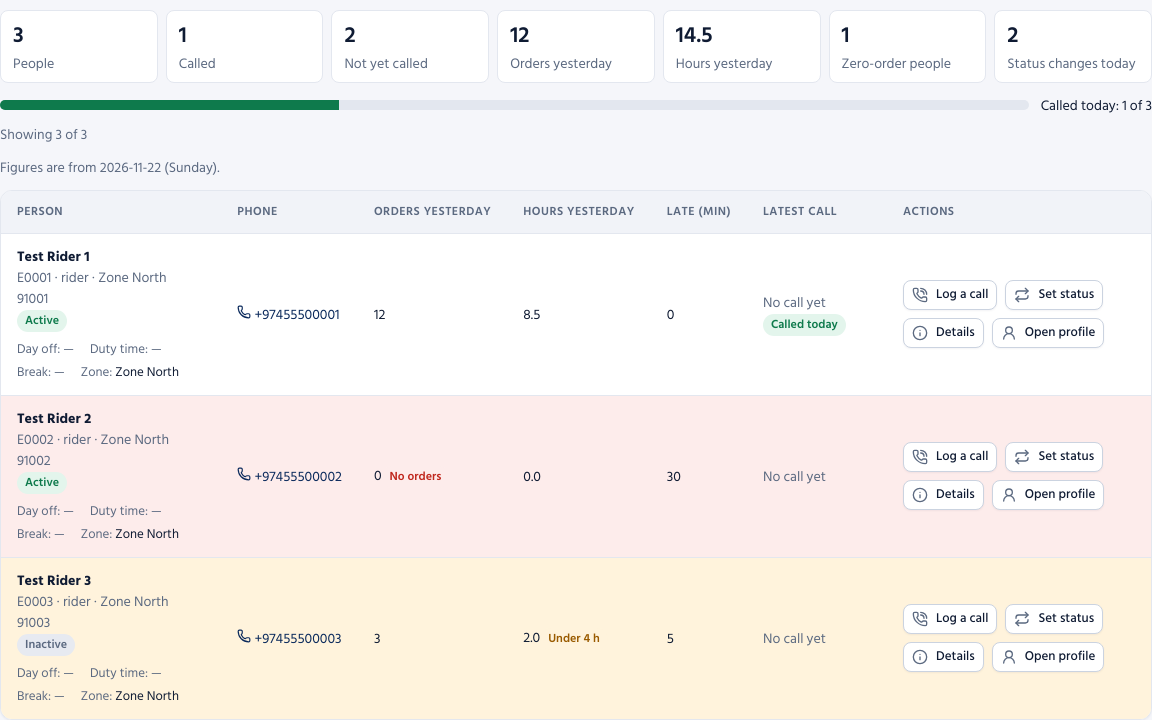
Test: Morning call sheet (row 4.8a) › shows the refusal when the status change is not allowed, and saves nothing
(page scrolled)
Expected: the text "Test Rider 3" is shown, [17,569,91,592]
Click the button "Set status" in the row of "E0003 · rider · Zone North" at (1054, 619), box [1005,604,1103,634]
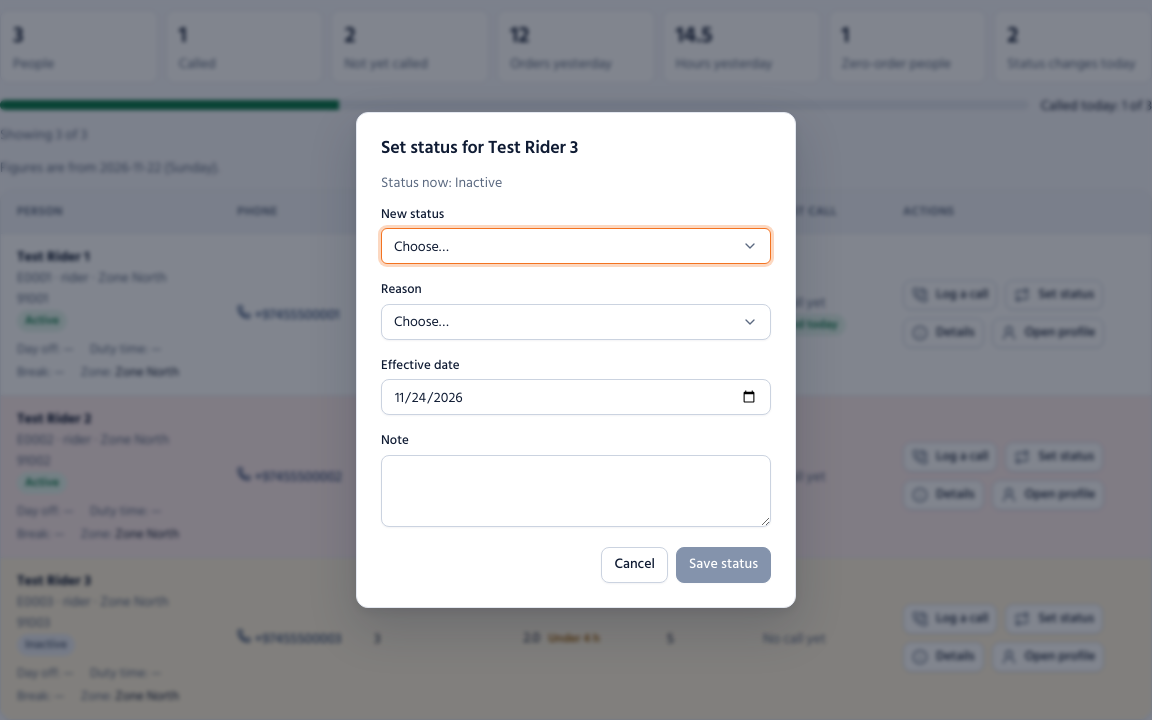
Select "Active" in the dropdown labelled "New status" at (576, 246), box [381,228,771,264]
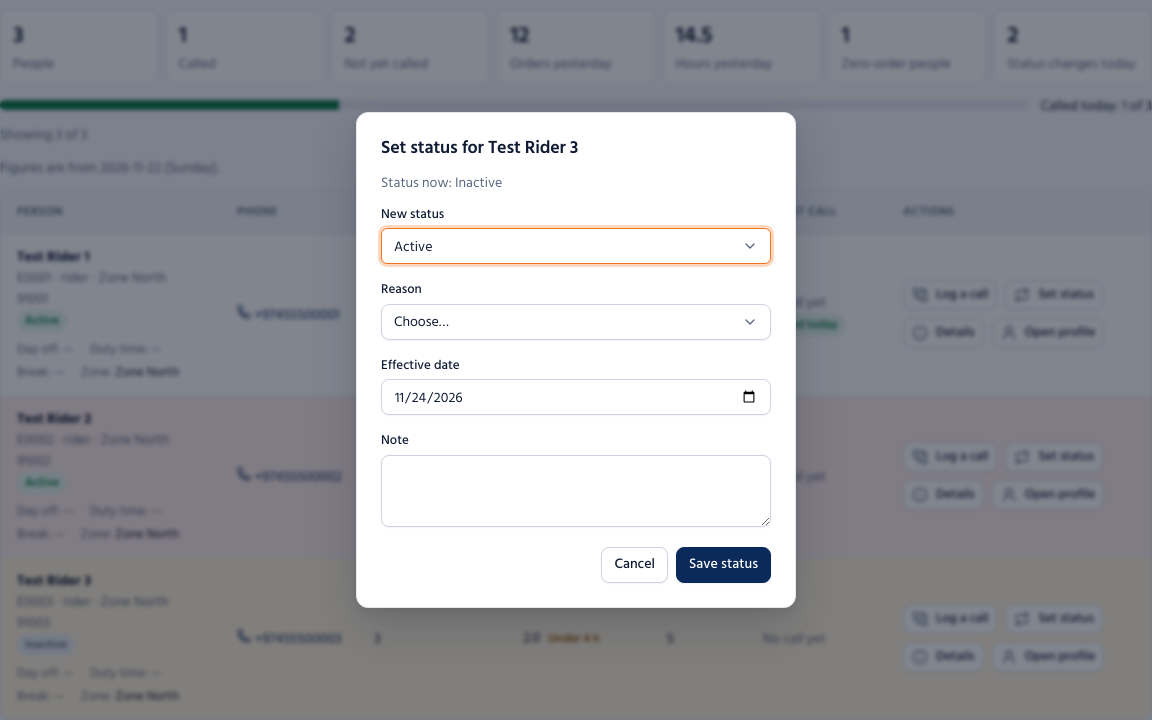
Click the button "Save status" at (724, 565), box [676,547,771,583]
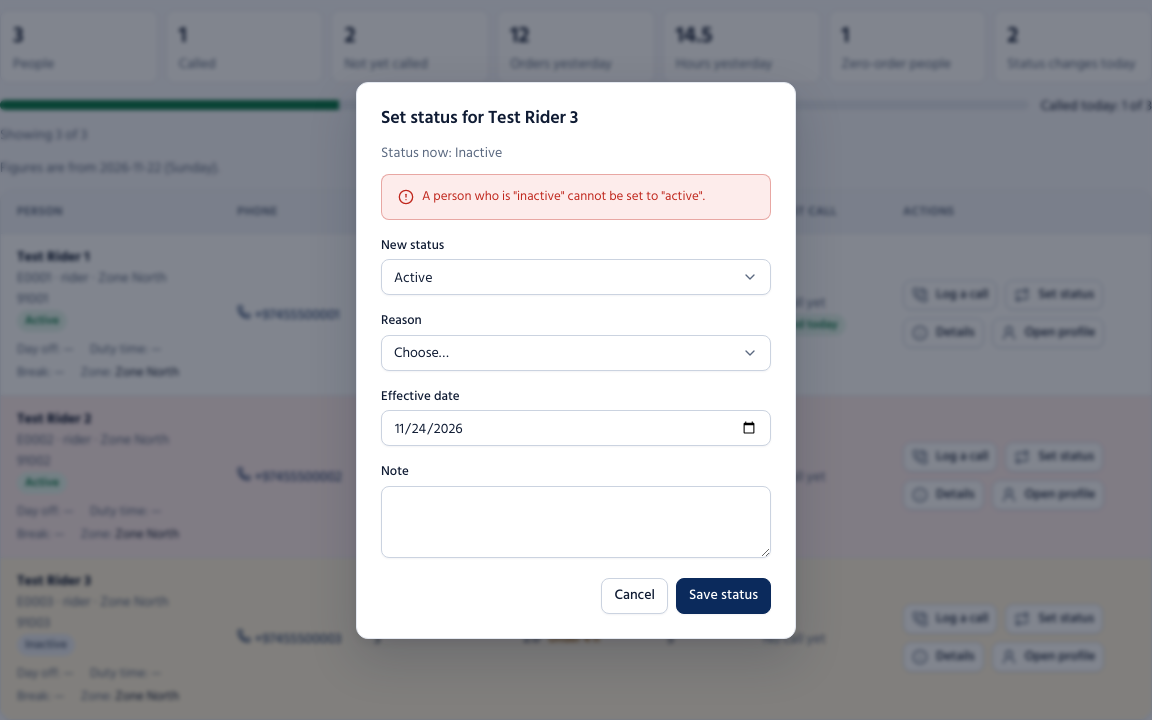
Result: the message reads "A person who is \"inactive\" cannot be set to \"active\"." at [422,185,705,207]
